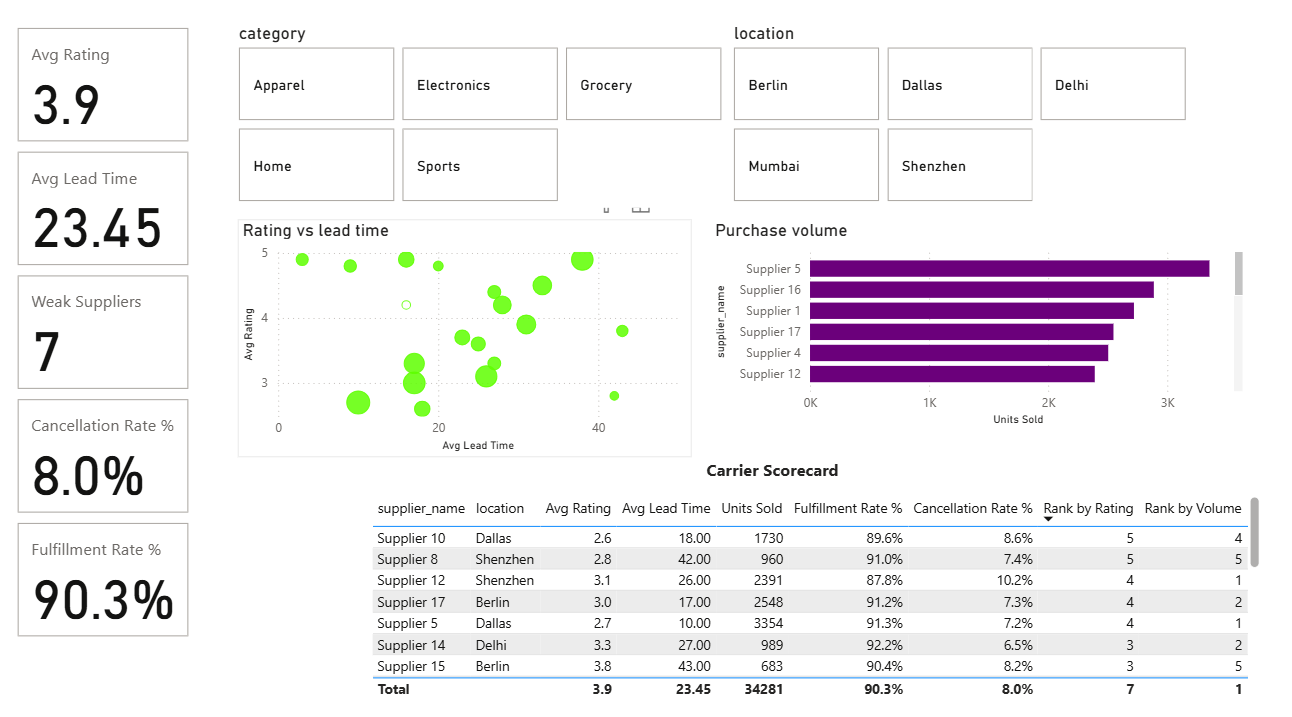

Layout of this report page (visuals, bound fields, positions):
{"tool":"powerbi","page":{"name":"Logistics","canvas":[1280,720],"ordinal":2},"visuals":[{"type":"cardVisual","fields":{"Data":["_Measures.Avg Rating"]},"box":[18.3,34.2,177.3,121.1],"z":0},{"type":"cardVisual","fields":{"Data":["_Measures.Cancellation Rate %"]},"box":[18.3,397.4,177.3,121.1],"z":1000},{"type":"cardVisual","fields":{"Data":["_Measures.Weak Suppliers"]},"box":[18.3,276.4,177.3,121.1],"z":2000},{"type":"cardVisual","fields":{"Data":["_Measures.Avg Lead Time"]},"box":[18.3,155.3,177.3,121.1],"z":3000},{"type":"cardVisual","fields":{"Data":["_Measures.Fulfillment Rate %"]},"box":[18.3,518.5,177.3,121.1],"z":4000},{"type":"scatterChart","title":"Rating vs lead time","fields":{"X":["_Measures.Avg Lead Time"],"Y":["_Measures.Avg Rating"],"Category":["dim_supplier.supplier_name"],"Size":["_Measures.Total Revenue"]},"box":[238.8,226.4,443.2,231.9],"z":5000},{"type":"clusteredBarChart","title":"Purchase volume","fields":{"Category":["dim_supplier.supplier_name"],"Y":["_Measures.Units Sold"]},"box":[701.2,226.4,525.6,207.2],"z":6000},{"type":"tableEx","fields":{"Values":["dim_supplier.supplier_name","dim_supplier.location","_Measures.Avg Rating","_Measures.Avg Lead Time","_Measures.Units Sold","_Measures.Fulfillment Rate %","_Measures.Cancellation Rate %","_Measures.Rank by Rating","_Measures.Rank by Volume"]},"box":[365,492.6,878.2,207.2],"z":7000},{"type":"advancedSlicerVisual","fields":{"Values":["dim_supplier.category"]},"box":[234.6,34.3,484.4,181.1],"z":8000},{"type":"advancedSlicerVisual","fields":{"Values":["dim_supplier.location"]},"box":[719,34,453,181],"z":9000},{"type":"qnaVisual","box":[1130,34,150,181],"z":10000}]}

Visuals, with their boxes in screenshot pixels (x1, y1, x2, y2), scaled from the page's 1280x720 canvas onto the 1292x717 screenshot:
cardVisual - _Measures.Avg Rating: 18/34/197/155
cardVisual - _Measures.Cancellation Rate %: 18/396/197/516
cardVisual - _Measures.Weak Suppliers: 18/275/197/396
cardVisual - _Measures.Avg Lead Time: 18/155/197/275
cardVisual - _Measures.Fulfillment Rate %: 18/516/197/637
"Rating vs lead time" scatterChart: 241/225/688/456
"Purchase volume" clusteredBarChart: 708/225/1238/432
tableEx - dim_supplier.supplier_name x dim_supplier.location: 368/491/1255/697
advancedSlicerVisual - dim_supplier.category: 237/34/726/215
advancedSlicerVisual - dim_supplier.location: 726/34/1183/214
qnaVisual: 1141/34/1291/214
